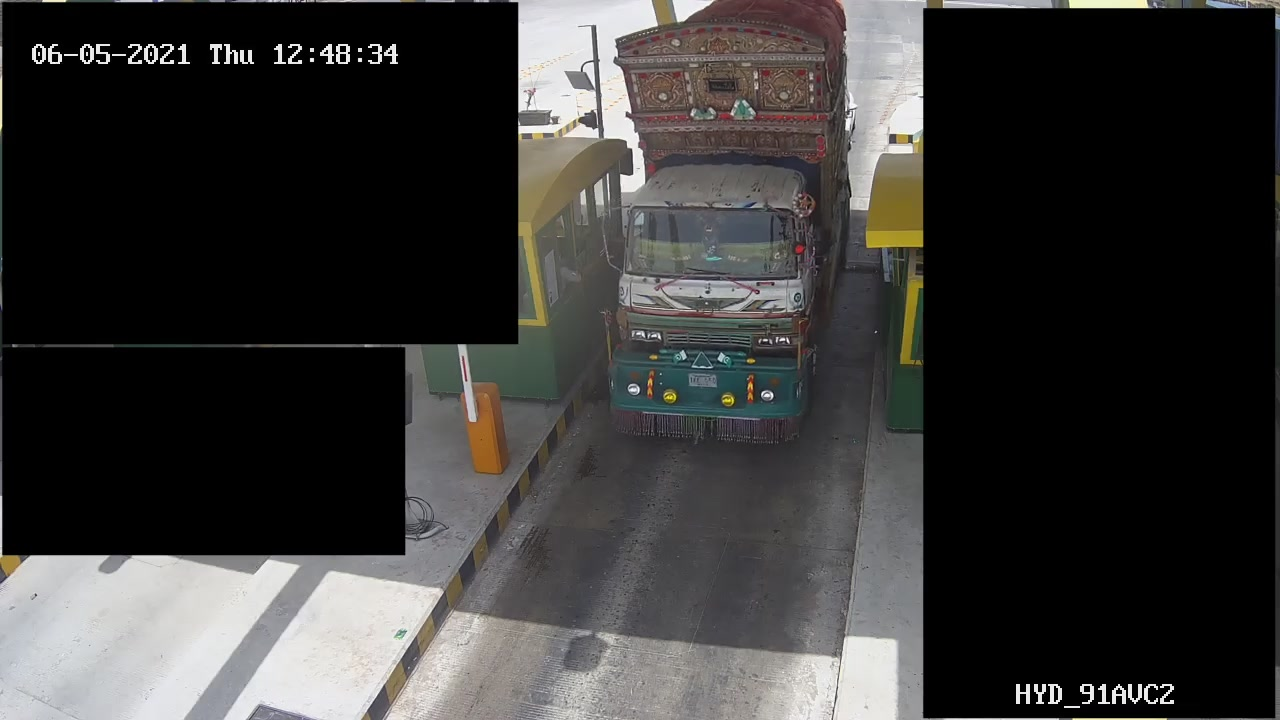F5: (602, 7, 858, 443)
